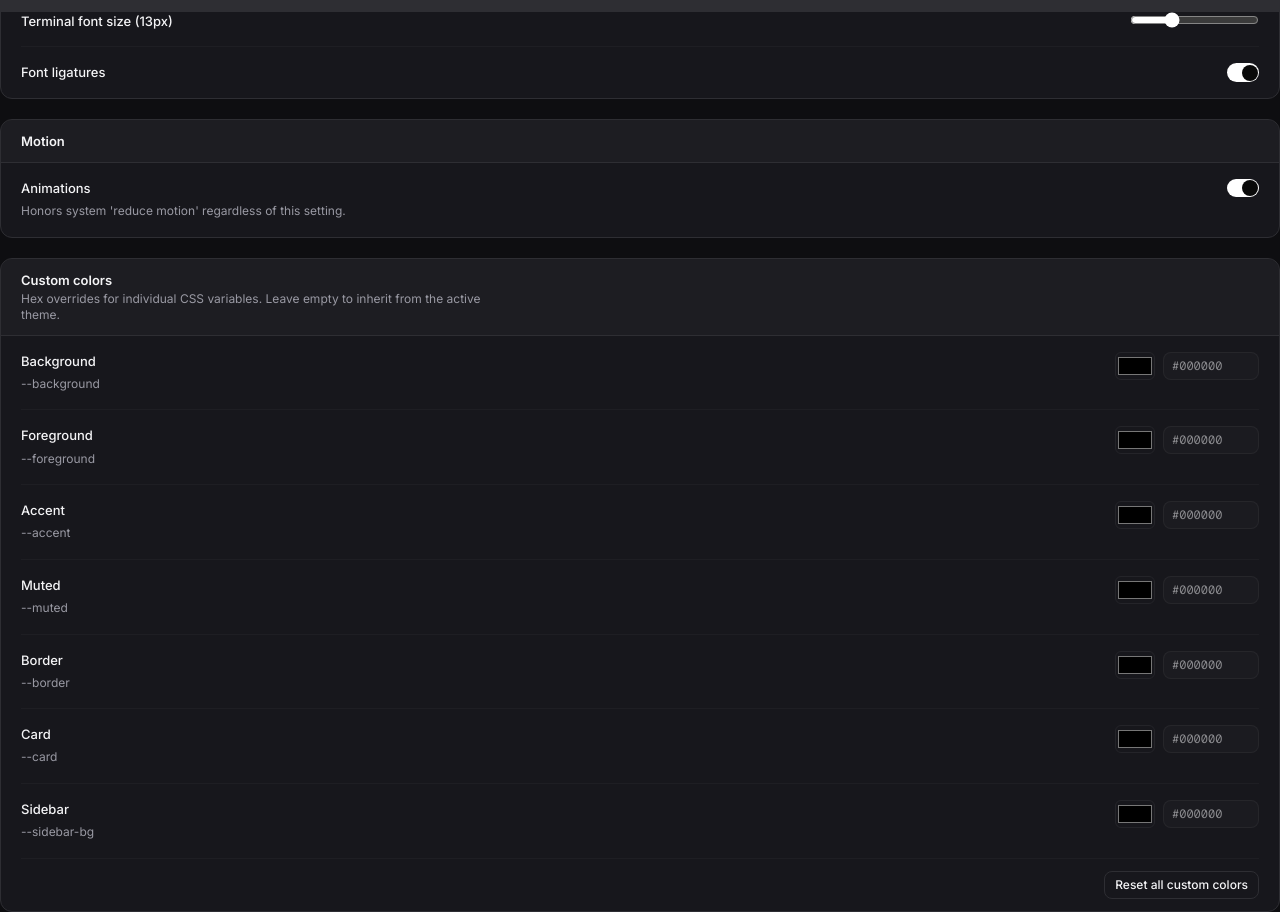
Scenario: AppearanceSettings › 'Reset all custom colors' clears all custom color values
(page scrolled)
Type "#FF0000" into the colour field with test id "color-appearance.customColors.background" at (1135, 366), box [1115,352,1155,380]
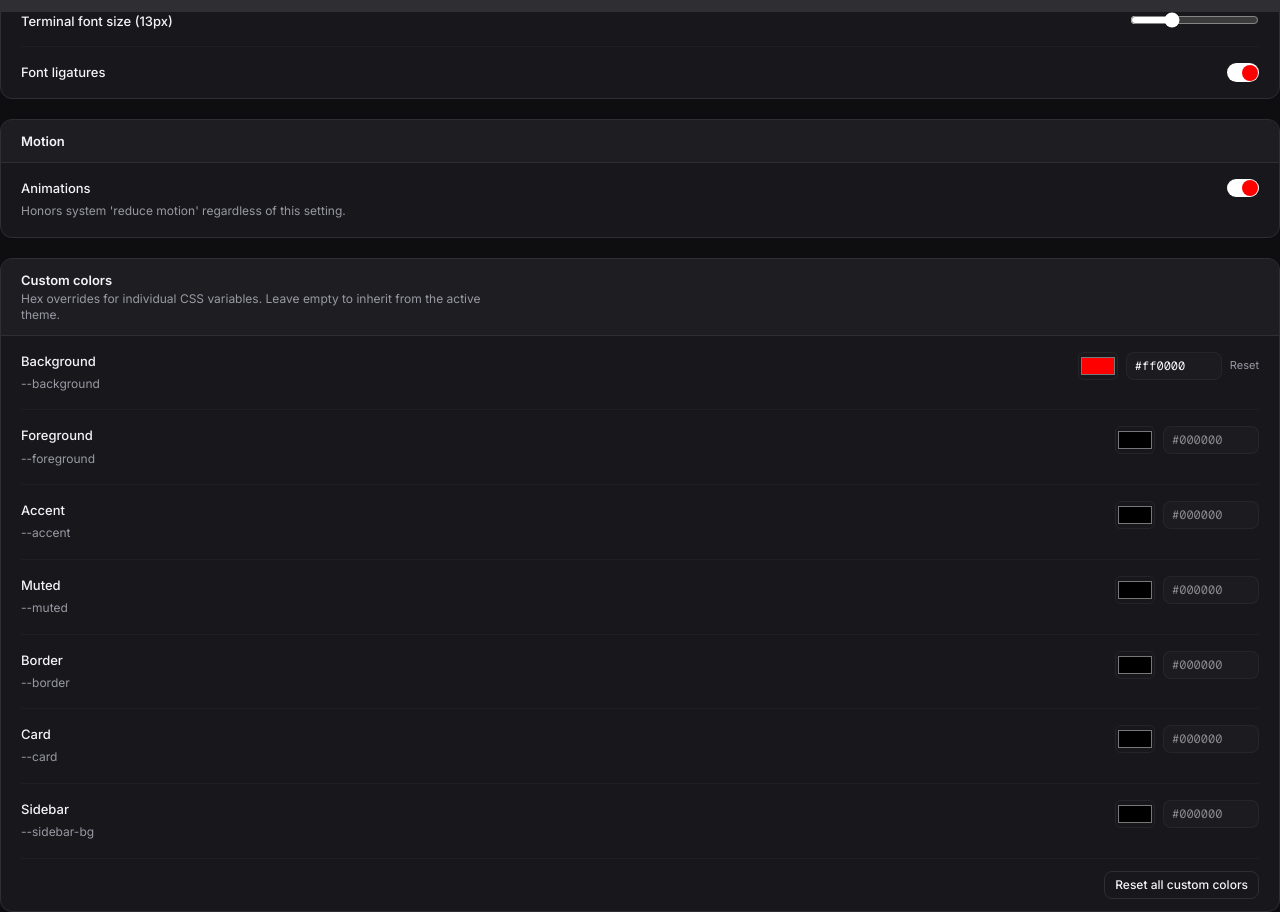
Click the button "Reset all custom colors" at (1182, 885), box [1104,871,1259,899]
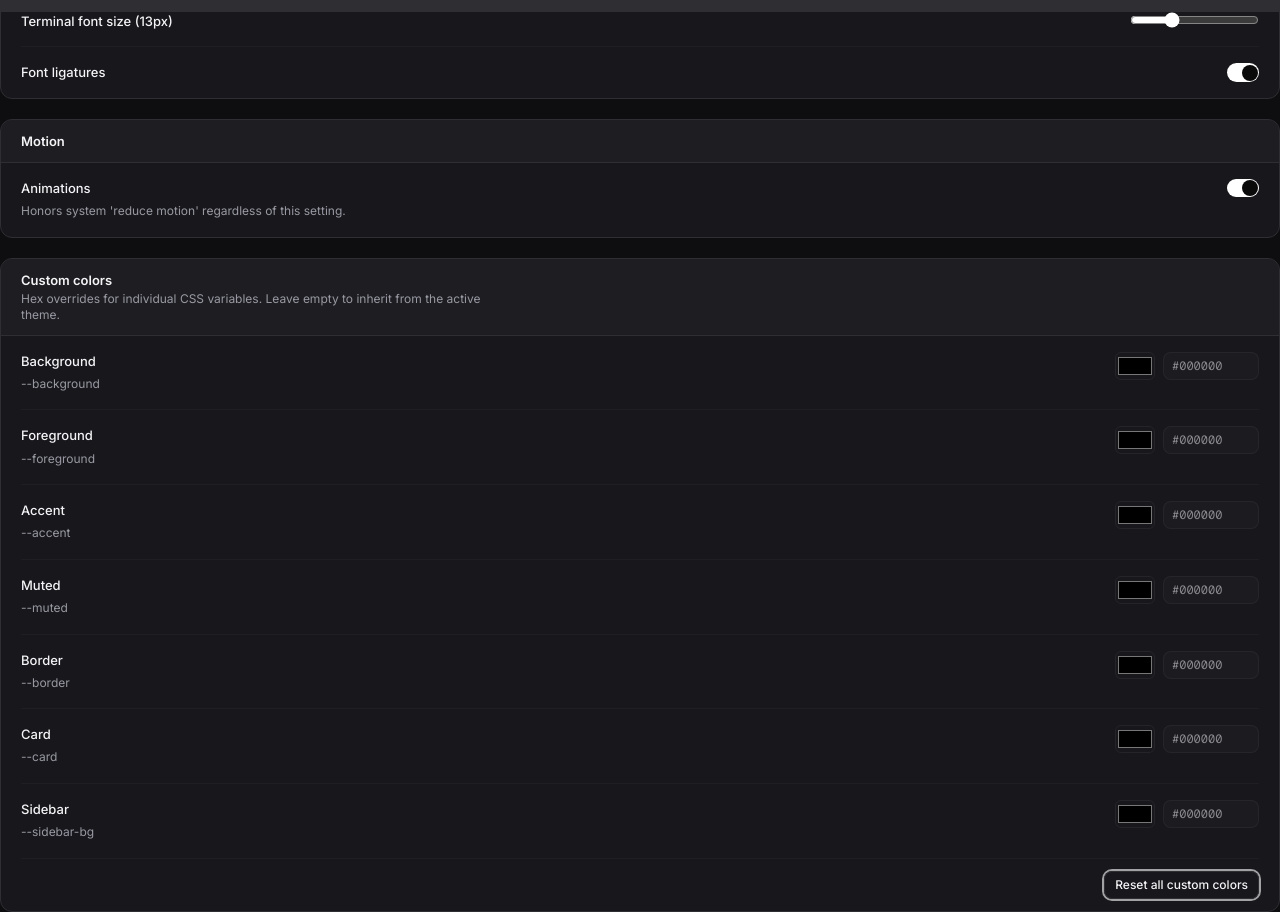
Check: the colour field with test id "color-appearance.customColors.background" holds "#000000", box [1115,352,1155,380]
